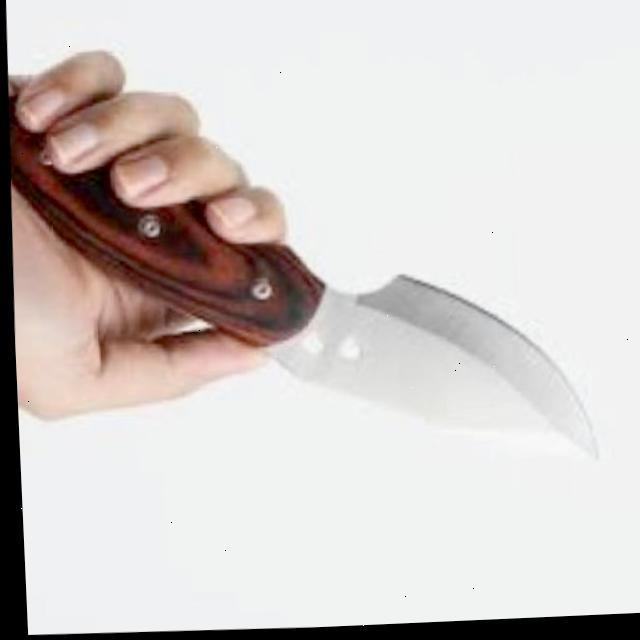knife: (3, 73, 601, 484)
